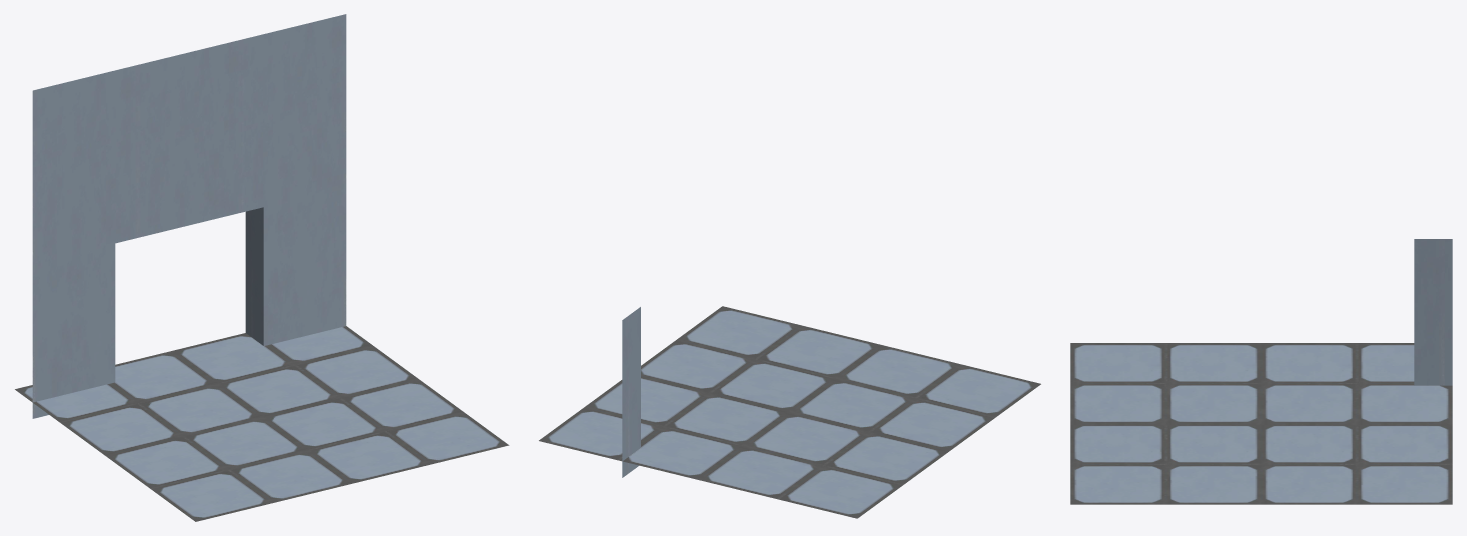
The model's file is Room_MTN_Door_Corner_A_2.glb.
3 renders of one model, left to right at view 1: azimuth 30°, elevation 25°; view 2: azimuth 150°, elevation 25°; view 3: azimuth 270°, elevation 25°, orthographic. The views are drawn at different scales.
Visible parts, largest first — view 1: Room_MTN_Door_Corner_A_2; view 2: Room_MTN_Door_Corner_A_2; view 3: Room_MTN_Door_Corner_A_2.
Part boxes in pixels (x1,y1,x2,y2): Room_MTN_Door_Corner_A_2: (15, 14, 509, 521); Room_MTN_Door_Corner_A_2: (539, 306, 1040, 518); Room_MTN_Door_Corner_A_2: (1070, 239, 1452, 504).
Size of the model in its own units: 4 by 4 by 4.
Materials: 2 (2 with a texture image).
